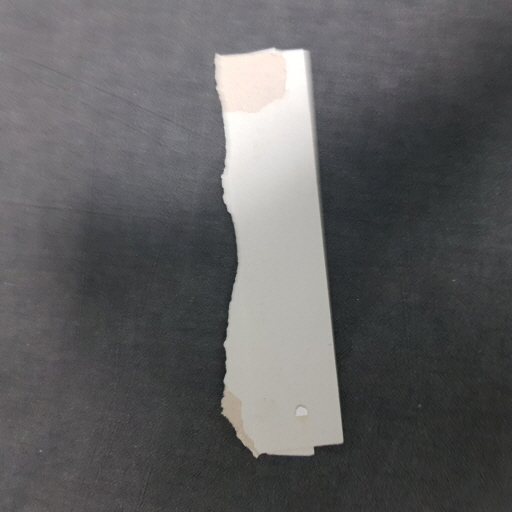Paper_2: (204, 43, 349, 473)
